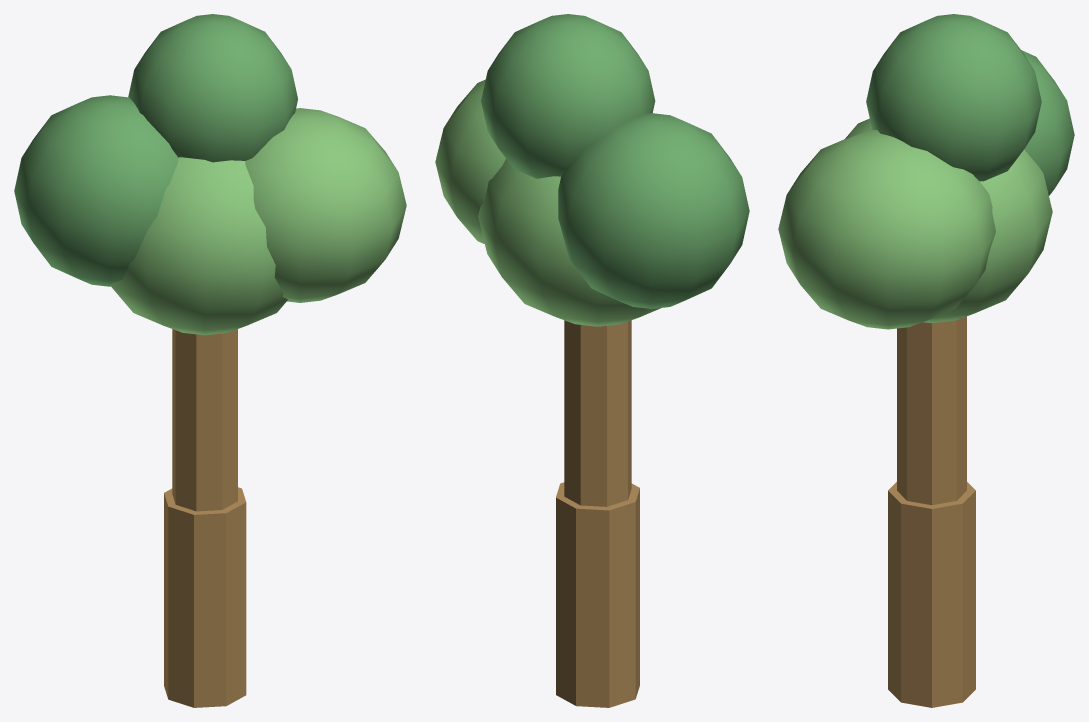
The model's file is tree.glb.
The picture shows the model from 3 angles, left to right: view 1: azimuth 30°, elevation 25°; view 2: azimuth 150°, elevation 25°; view 3: azimuth 270°, elevation 25°; orthographic projection. The views are drawn at different scales.
Visible parts, largest first — view 1: tree_root; view 2: tree_root; view 3: tree_root.
Boxes of the visible parts, x1,y1,x2,y2 form: tree_root: (14, 14, 406, 707); tree_root: (435, 14, 749, 707); tree_root: (778, 14, 1074, 707).
Bounding box in the file's own units: 2.47 × 4.8 × 1.91.
